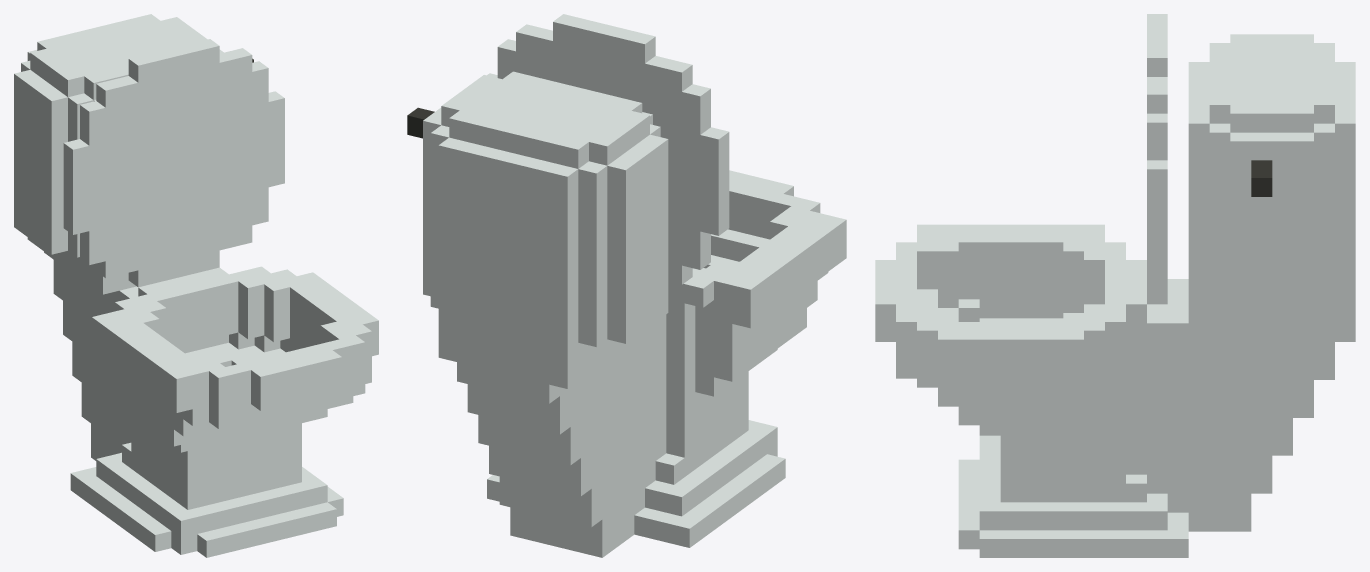
File: Toilette.fbx
3 renders of one model, left to right at view 1: azimuth 30°, elevation 25°; view 2: azimuth 150°, elevation 25°; view 3: azimuth 270°, elevation 25°, orthographic. The views are drawn at different scales.
Parts seen in each view (by area): view 1: Toilette; view 2: Toilette; view 3: Toilette.
Part boxes in pixels (x1,y1,x2,y2): Toilette: (14,14,378,557); Toilette: (407,14,846,557); Toilette: (875,14,1355,557).
Bounding box in the file's own units: 63.42 × 113 × 104.
Materials: 1 (1 with a texture image).
